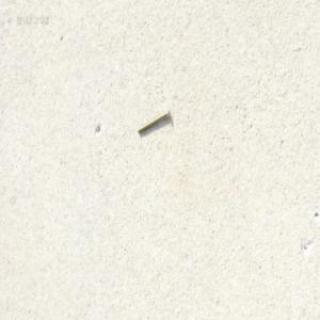Bolttrack_idkeyframe: (136, 107, 168, 134)
